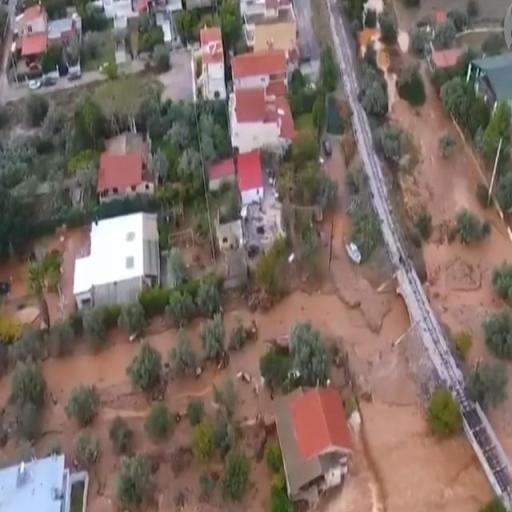flood: (169, 210, 494, 512), (393, 80, 512, 362), (32, 330, 191, 512), (489, 362, 512, 460), (143, 322, 177, 362), (0, 376, 8, 409)
house: (68, 206, 171, 320), (273, 376, 359, 510), (224, 48, 294, 166), (223, 146, 283, 258), (1, 444, 82, 512), (99, 132, 152, 206), (5, 2, 49, 78), (194, 24, 228, 102), (465, 59, 512, 106), (250, 20, 298, 65)
